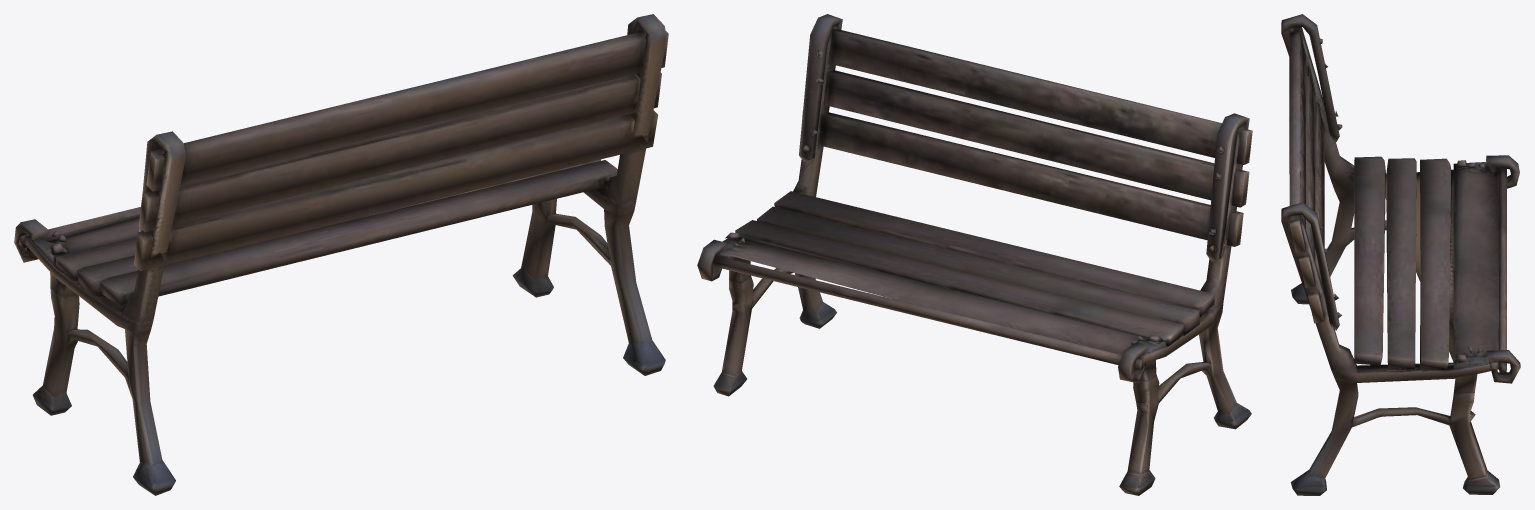
File: street-bench.glb
3 views of the same model, side by side, from view 1: azimuth 30°, elevation 25°; view 2: azimuth 150°, elevation 25°; view 3: azimuth 270°, elevation 25° (orthographic). The views are drawn at different scales.
Parts seen in each view (by area): view 1: tripo_node_4b3b2088-9f1e-4db3-a1eb-e9fe931b447c; view 2: tripo_node_4b3b2088-9f1e-4db3-a1eb-e9fe931b447c; view 3: tripo_node_4b3b2088-9f1e-4db3-a1eb-e9fe931b447c.
Part boxes in pixels (box(x1,y1,x2,y2)): tripo_node_4b3b2088-9f1e-4db3-a1eb-e9fe931b447c: box(14, 14, 668, 495); tripo_node_4b3b2088-9f1e-4db3-a1eb-e9fe931b447c: box(697, 14, 1252, 495); tripo_node_4b3b2088-9f1e-4db3-a1eb-e9fe931b447c: box(1281, 14, 1520, 495).
Size of the model in its own units: 1 by 0.6581 by 0.4992.
Materials: 1 (1 with a texture image).
